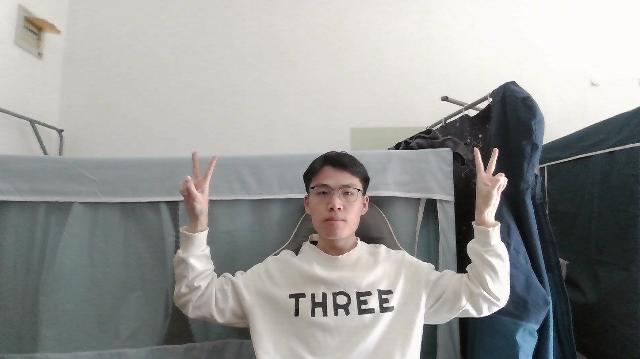two: (176, 150, 219, 223), (470, 145, 507, 215)
